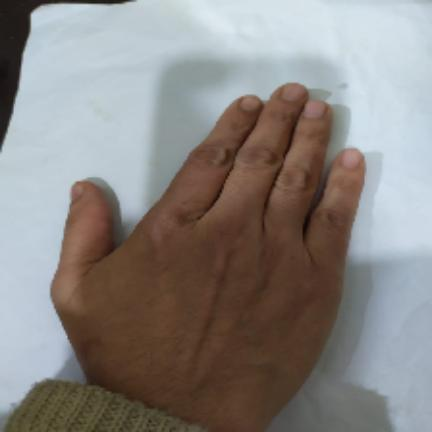Nail: (281, 84, 304, 101), (304, 100, 325, 118), (342, 149, 361, 167), (240, 95, 260, 111), (70, 183, 83, 201)
